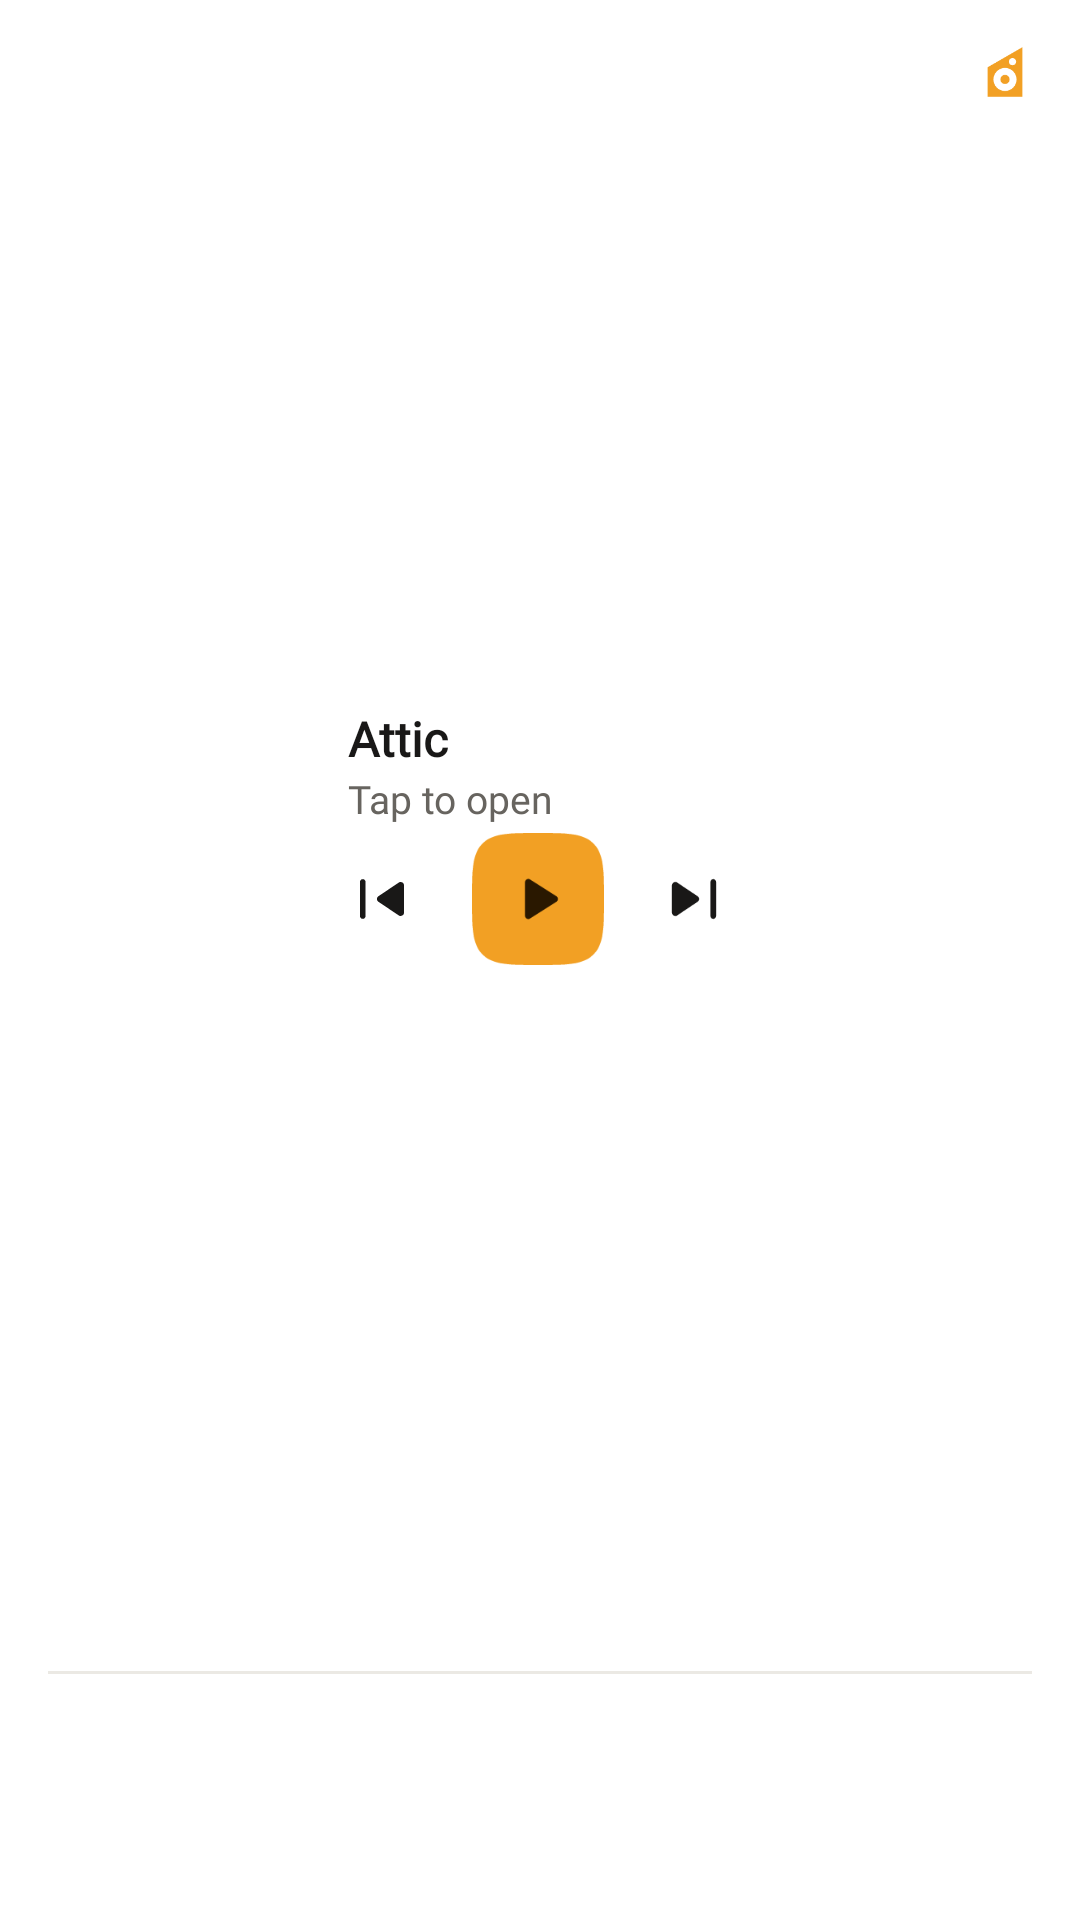

Screen size 1080 x 1920. Icon name, then its center in pixels as point (x, y):
Next: point (694, 899)
